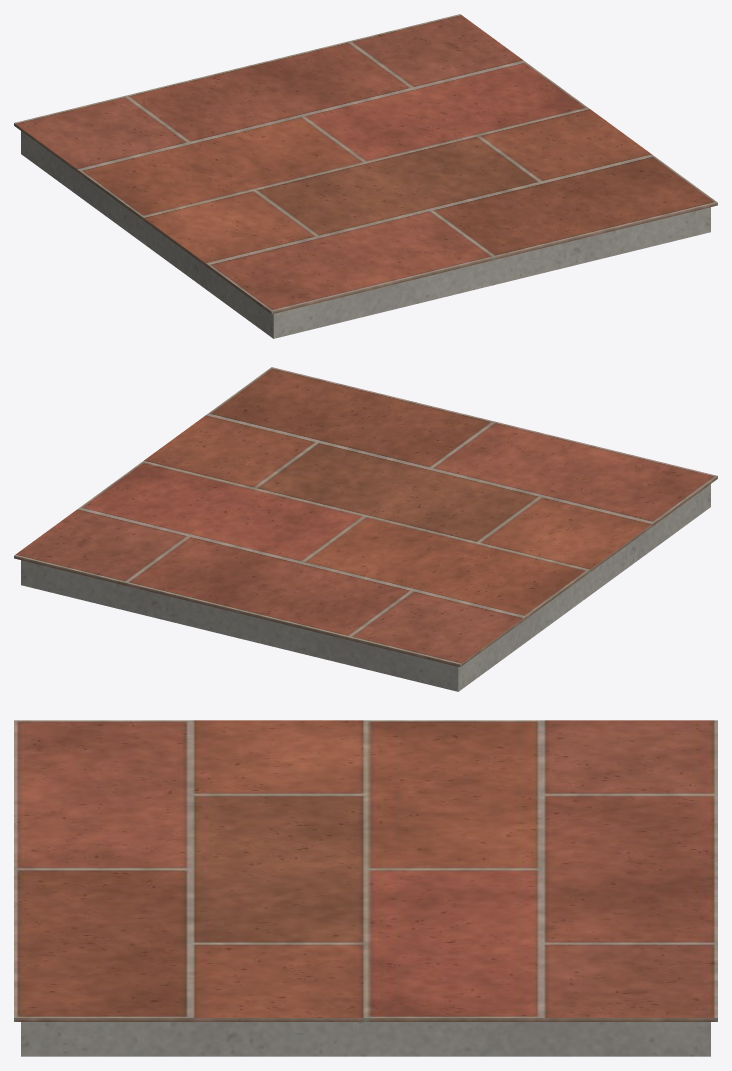
The model's file is floor_kit.glb.
3 views of the same model, one above another, from view 1: azimuth 30°, elevation 25°; view 2: azimuth 150°, elevation 25°; view 3: azimuth 270°, elevation 25° (orthographic). The views are drawn at different scales.
Parts seen in each view (by area): view 1: floor_kit_quarry, floor_kit_concrete; view 2: floor_kit_quarry, floor_kit_concrete; view 3: floor_kit_quarry, floor_kit_concrete.
Boxes of the visible parts, x1=… form: floor_kit_quarry: x1=14, y1=14, x2=717, y2=314; floor_kit_concrete: x1=21, y1=131, x2=710, y2=338; floor_kit_quarry: x1=14, y1=367, x2=717, y2=667; floor_kit_concrete: x1=21, y1=484, x2=710, y2=691; floor_kit_quarry: x1=14, y1=720, x2=717, y2=1021; floor_kit_concrete: x1=21, y1=1022, x2=710, y2=1056.
Size of the model in its own units: 2 by 0.13 by 2.
2 materials, 2 textured.
